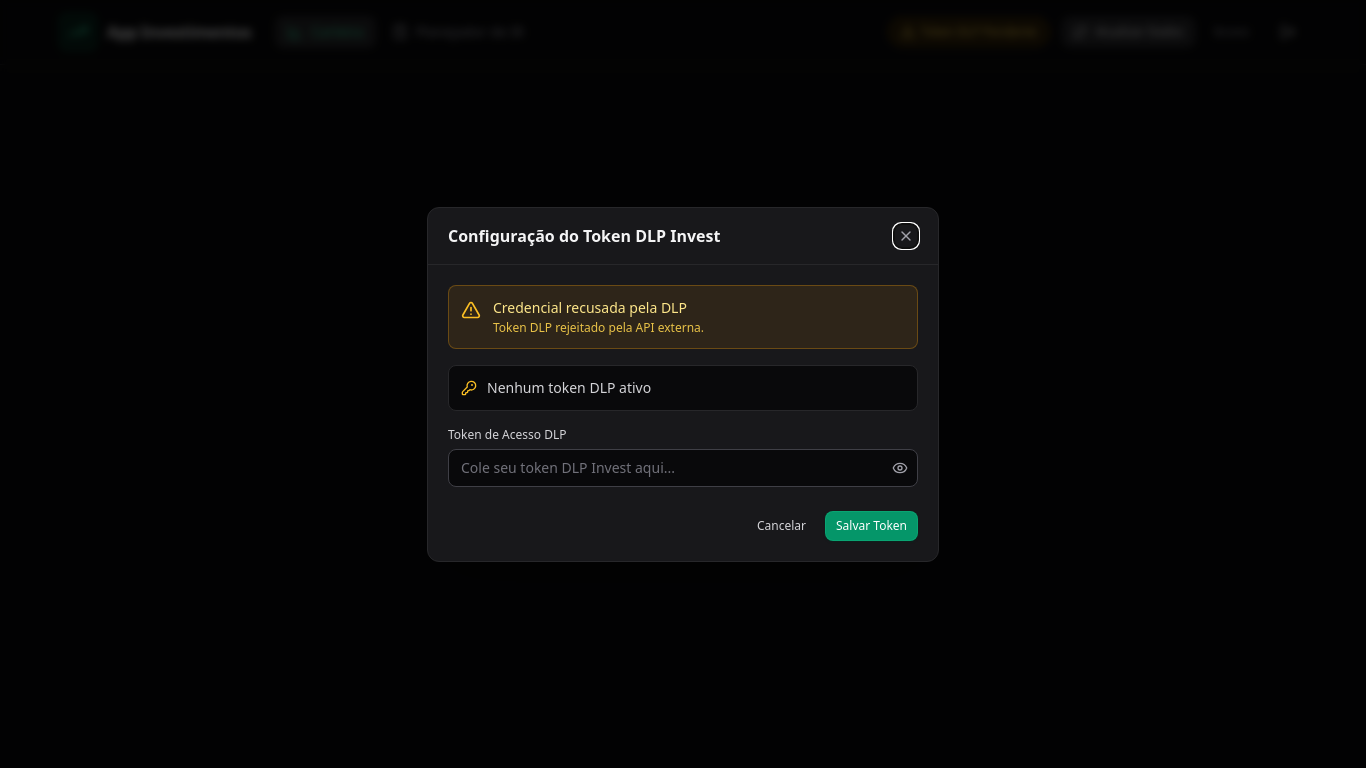
Header, DlpTokenModal e Primitivas de UI › abre o modal de token ao clicar no badge ou ao receber o evento open-dlp-modal e salva o token
This screenshot has width=1366, height=768.
Expected: the button with test id "dlp-status-badge" is shown, [888,17,1050,47]
Expected: the text "Token DLP rejeitado pela API externa." is shown, [493,320,704,336]
In the password field with placeholder "Cole seu token DLP Invest aqui...": x=683, y=468 [448,448,918,486], type "eyJ0b2tlbiI6IjEyMyJ9"
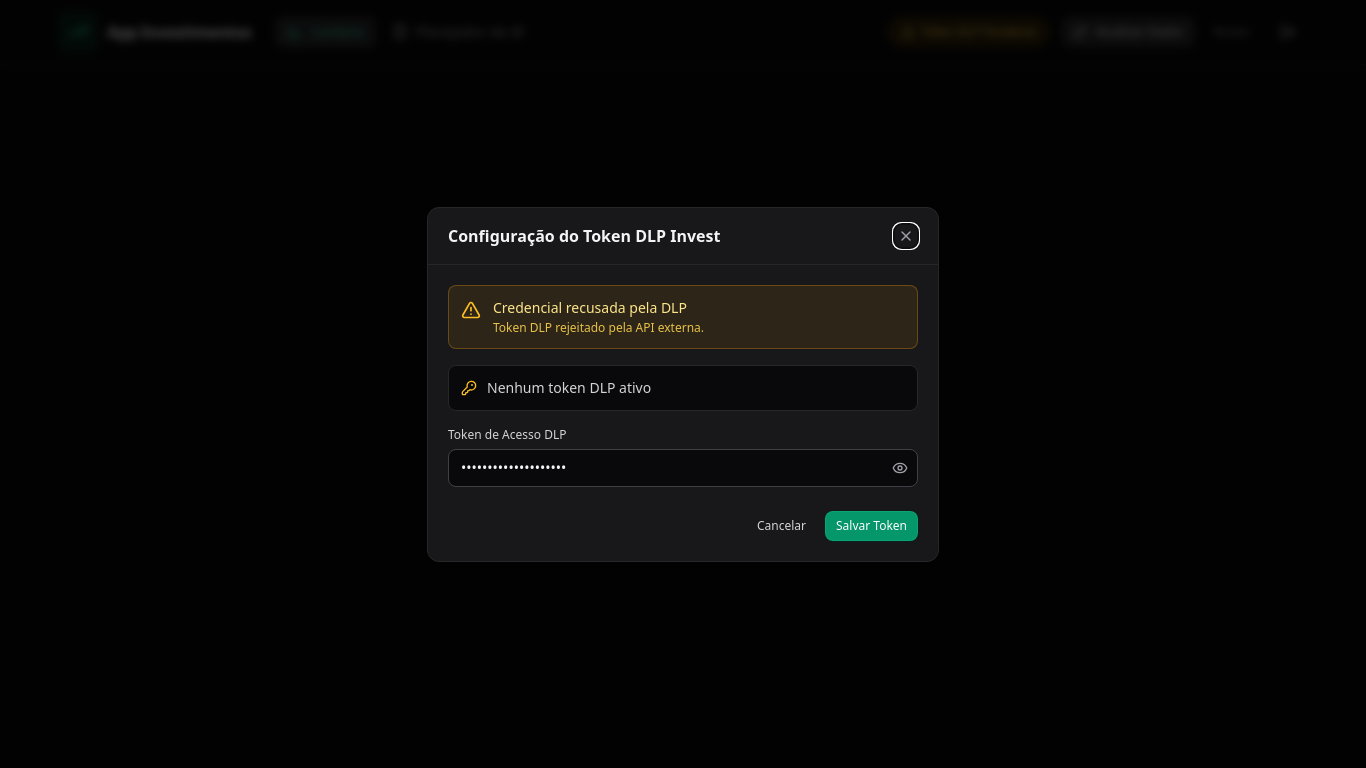
Click the button "Salvar Token": x=872, y=526 [825,510,918,540]
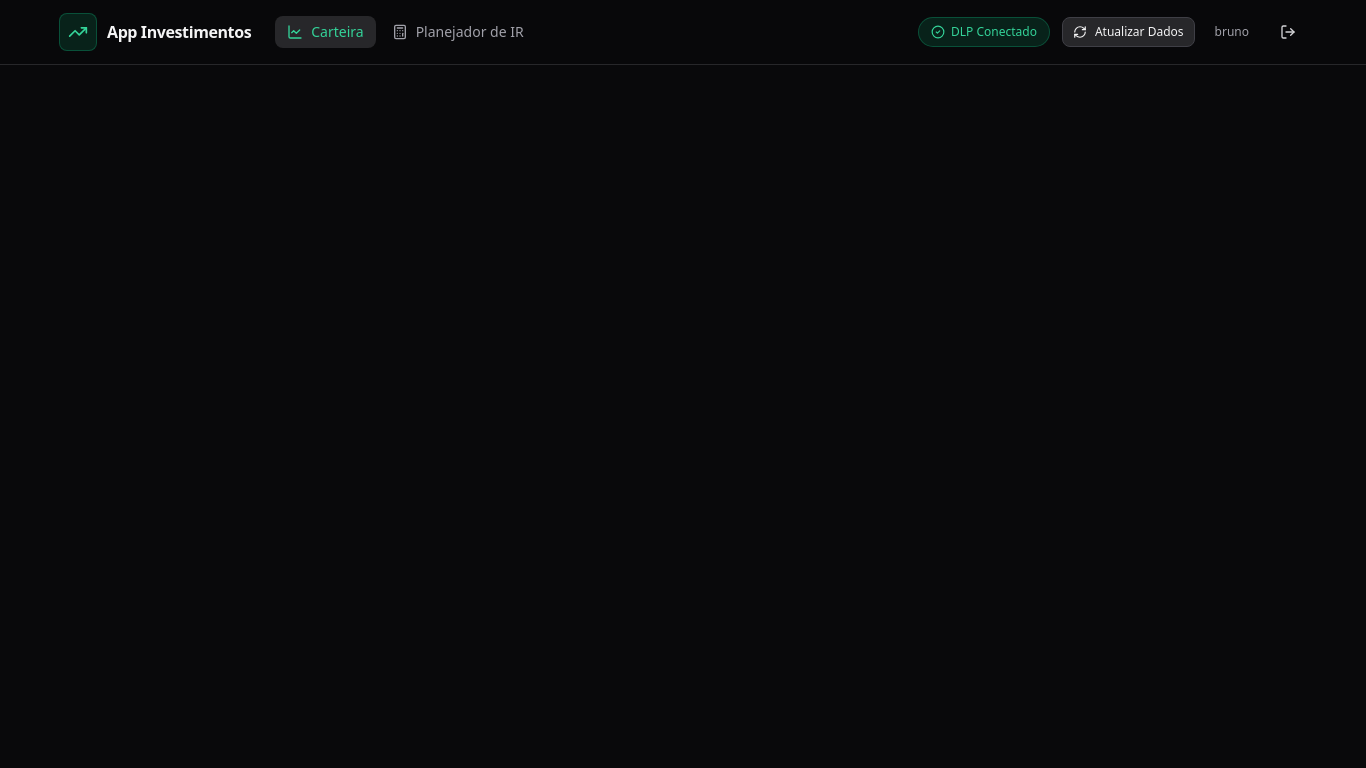
Result: the button with test id "dlp-status-badge" reads "DLP Conectado" at [918,17,1050,47]
